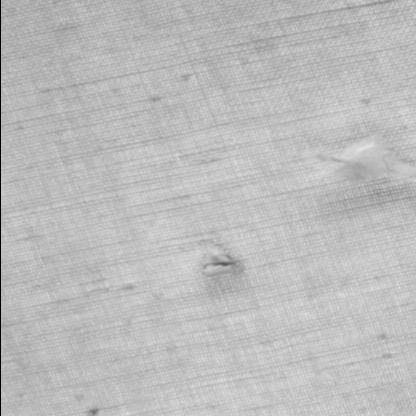objects: (326, 132, 400, 178), (198, 251, 246, 278)
